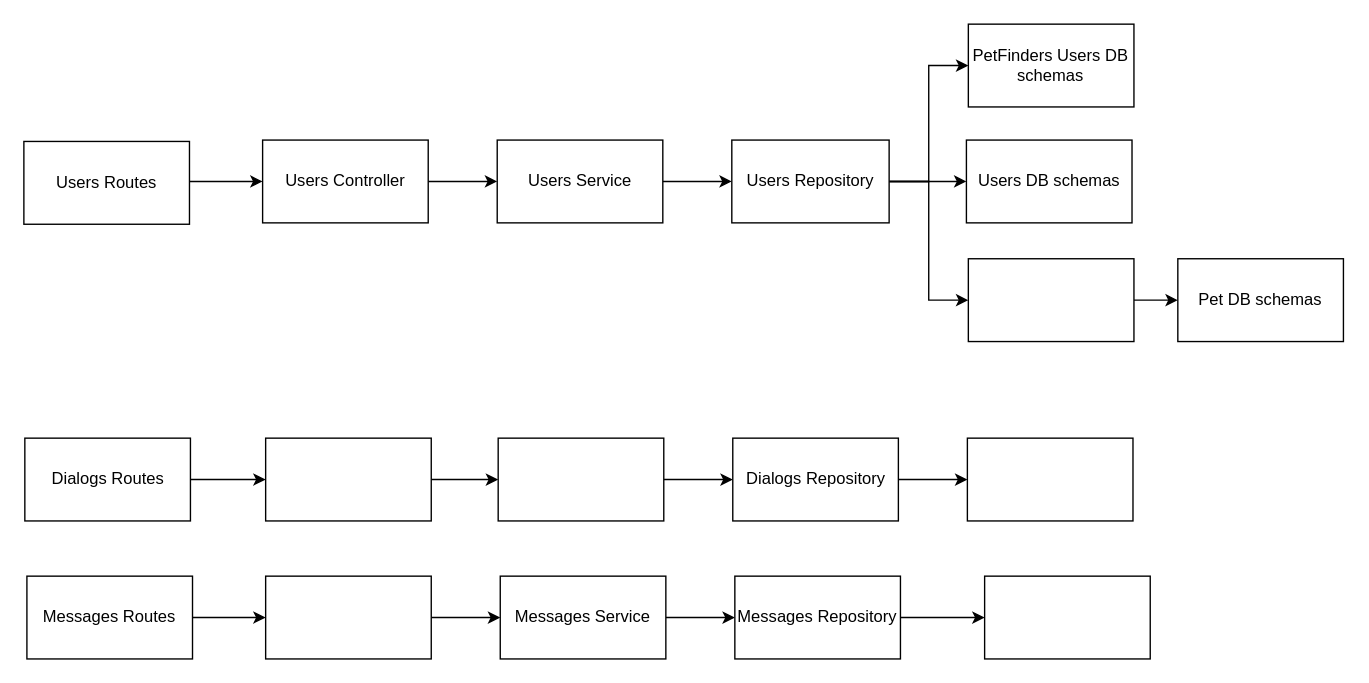
The diagram is 1369 pixels wide and 683 high, and some of its shapes have lost their labels. The centre of each missing label's shape, as x and y in pixels:
"Dialogs Controller" goes at pixel 347 479.
"Dialogs DB schemas" goes at pixel 1049 479.
"Dialogs Service" goes at pixel 580 479.
"Messages Controller" goes at pixel 347 617.
"Messages DB schemas" goes at pixel 1066 617.
"PetOwners DB schemas" goes at pixel 1050 299.
